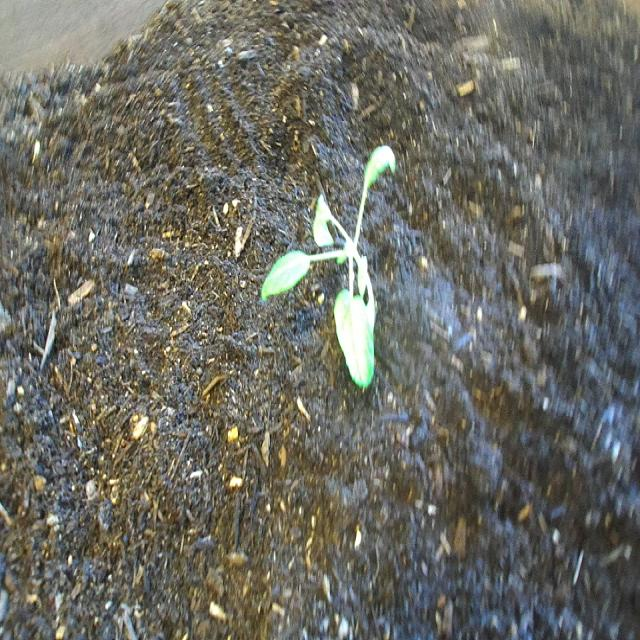Healthy: (253, 113, 414, 406)
